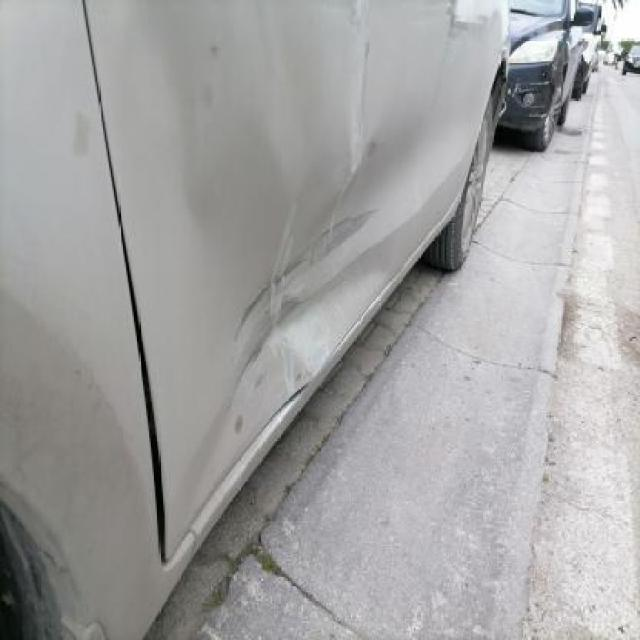car damage: (206, 150, 417, 476), (334, 24, 385, 183)
